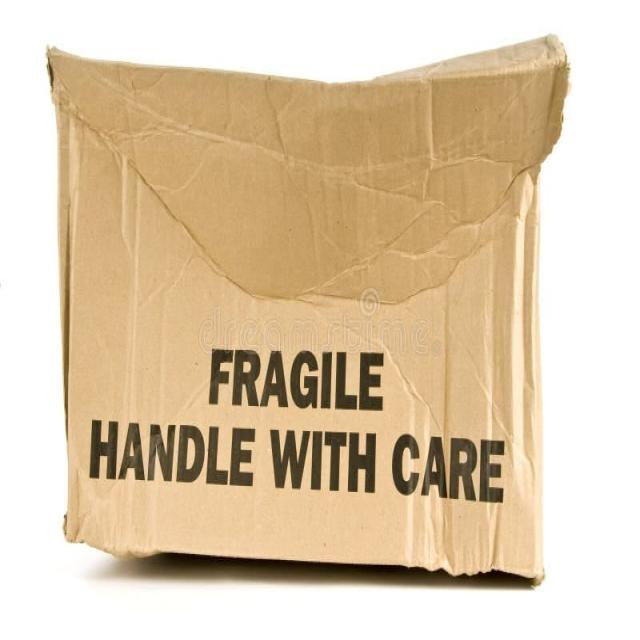carton_box: (28, 36, 580, 601)
fragile_label: (75, 313, 517, 540)
package_damage: (502, 38, 578, 190), (35, 40, 72, 106)
